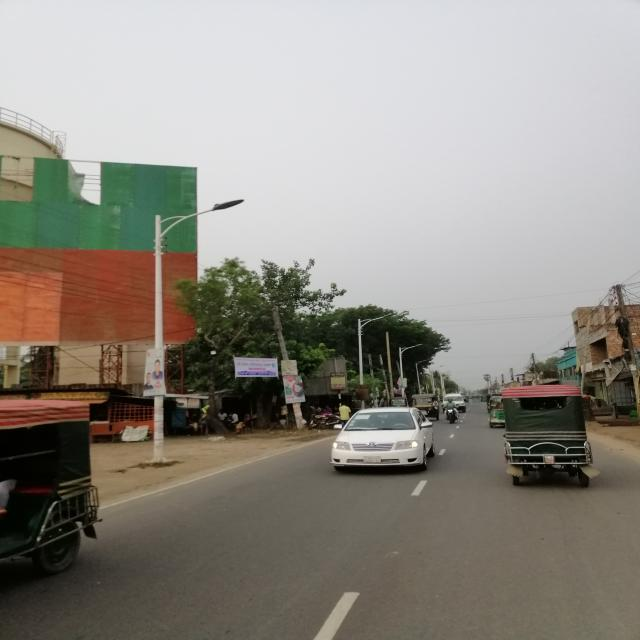Car: (327, 407, 437, 477)
Easybike: (490, 382, 599, 491)
